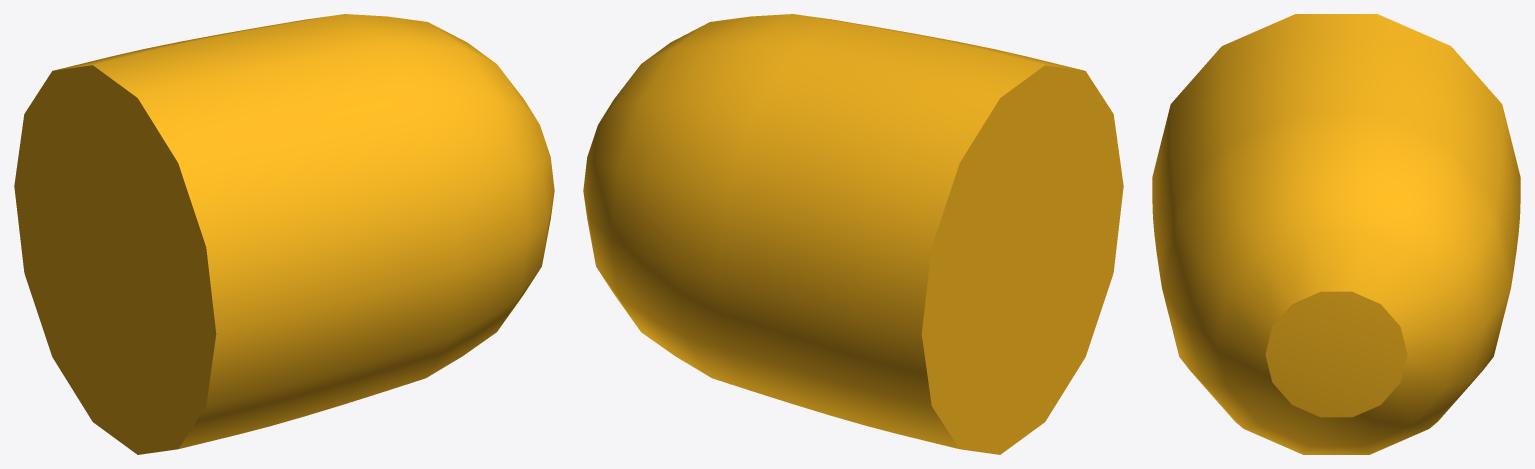
File: lamp light.fbx
3 views of the same model, side by side, from view 1: azimuth 30°, elevation 25°; view 2: azimuth 150°, elevation 25°; view 3: azimuth 270°, elevation 25° (orthographic). The views are drawn at different scales.
Visible parts, largest first — view 1: polySurface34; view 2: polySurface34; view 3: polySurface34.
Part boxes in pixels (bbox=[...]): polySurface34: bbox=[14, 14, 554, 454]; polySurface34: bbox=[583, 14, 1123, 454]; polySurface34: bbox=[1152, 14, 1520, 454].
Bounding box in the file's own units: 222 × 258 × 217.
